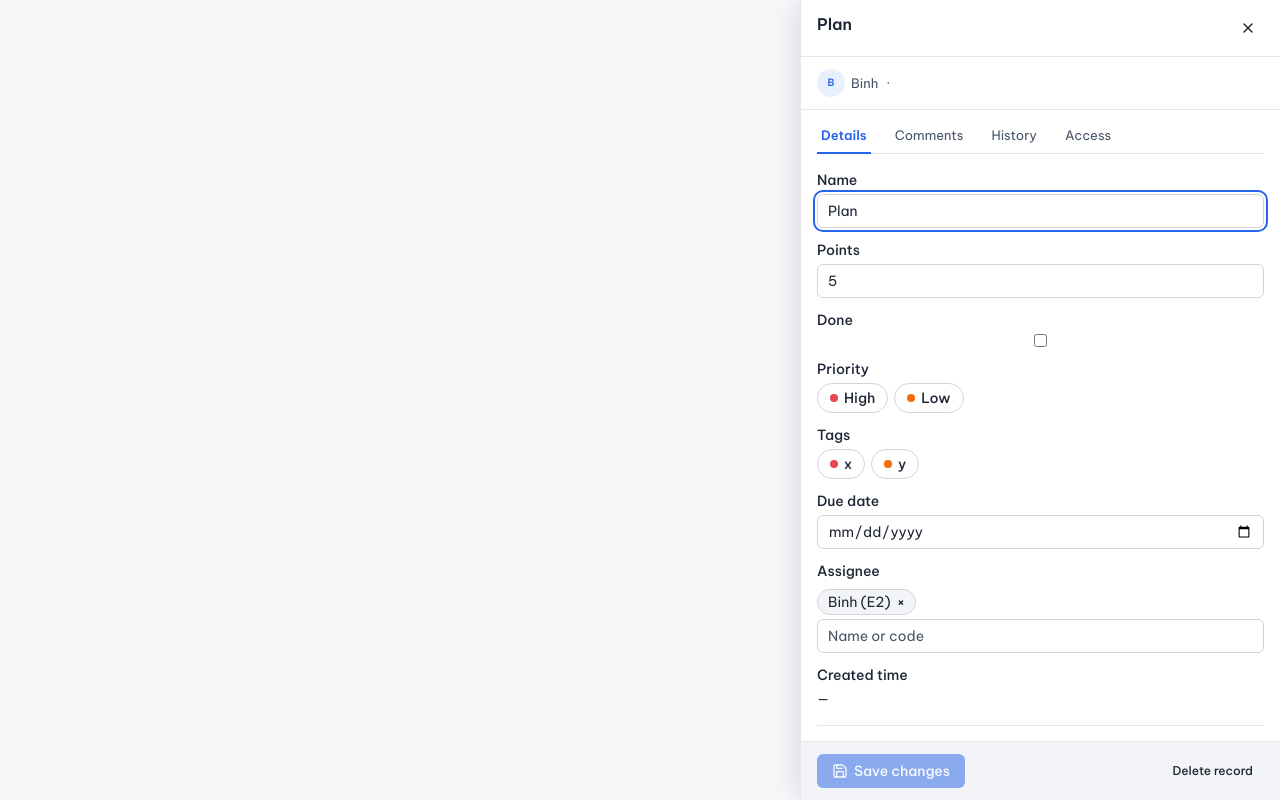
deleting › asks first, and does nothing when the person says no
This screenshot has width=1280, height=800.
Click the button "Delete record" at (1213, 771), box left=1162, top=758, right=1264, bottom=784
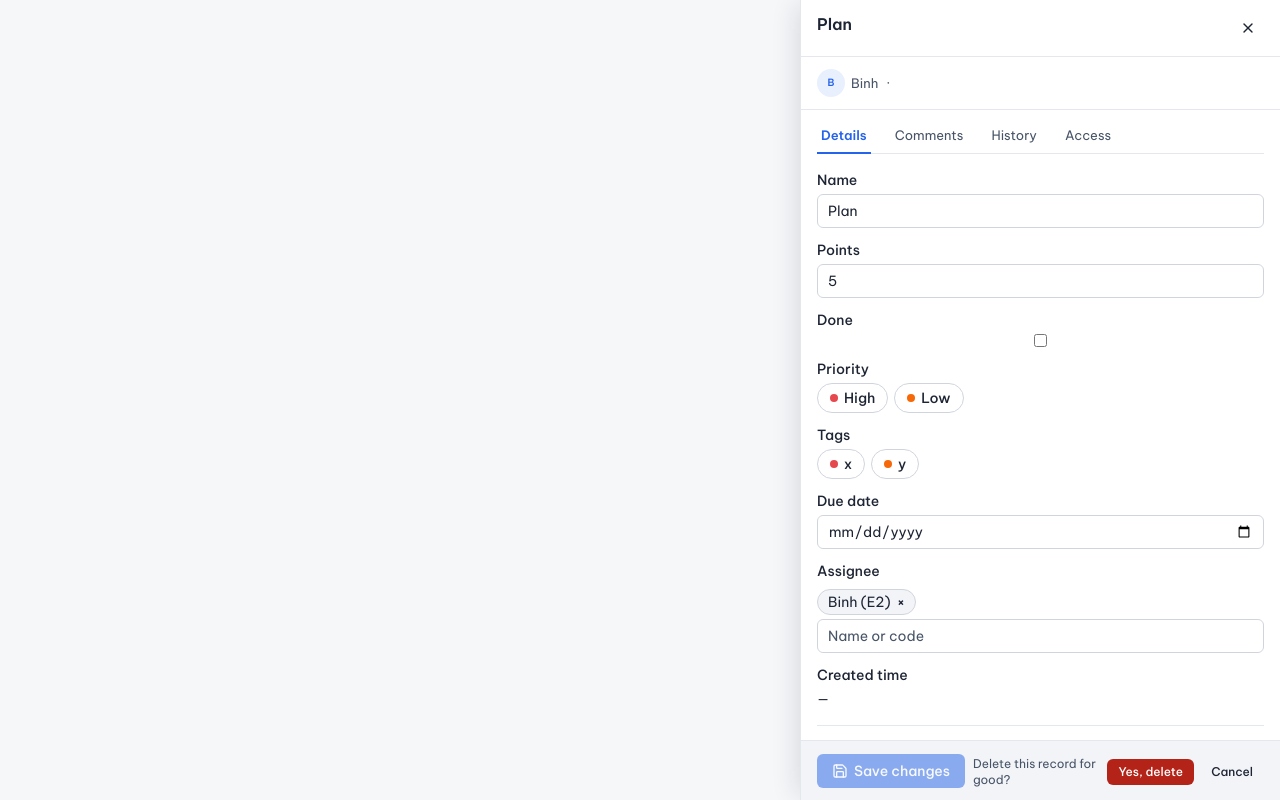
Now the text "Delete this record for good?" is shown, box left=973, top=756, right=1102, bottom=788
Click the button "Cancel" at (1232, 772), box left=1200, top=759, right=1264, bottom=785
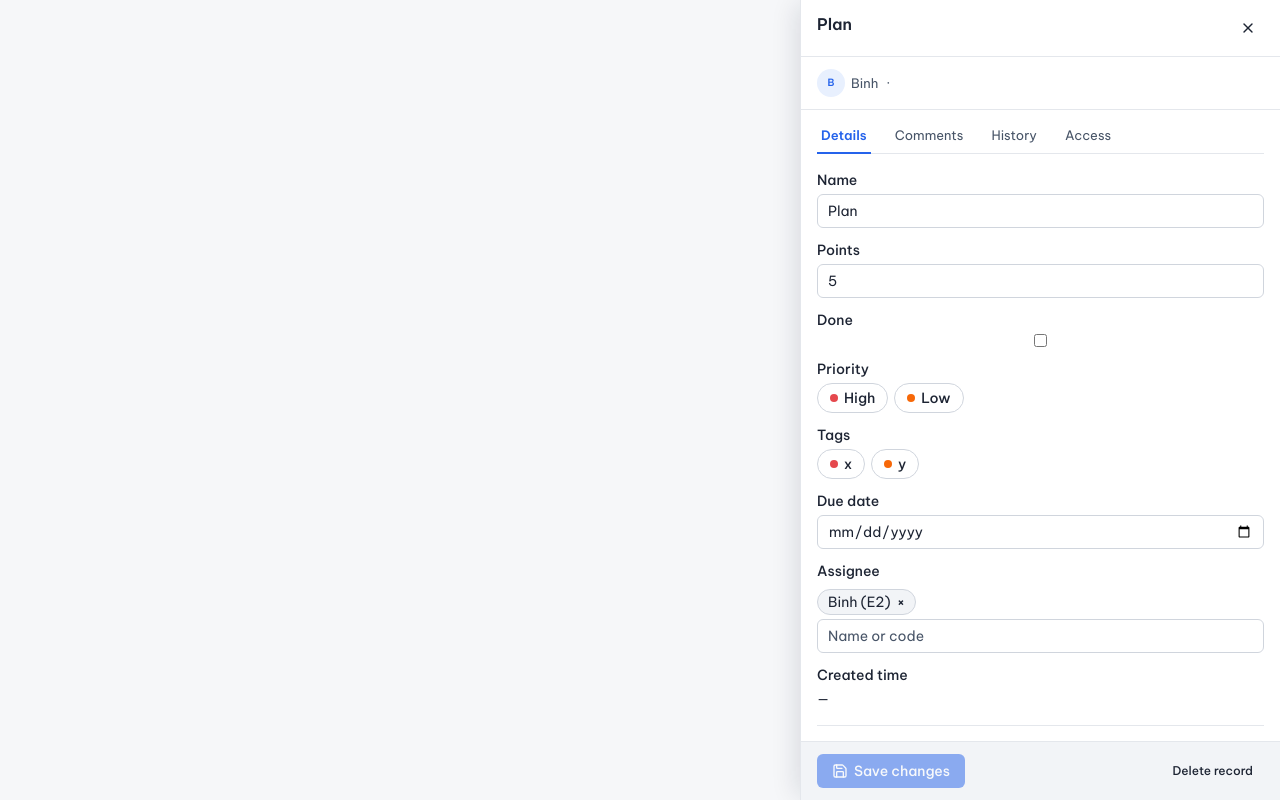
Now the button "Delete record" is shown, box left=1162, top=758, right=1264, bottom=784
